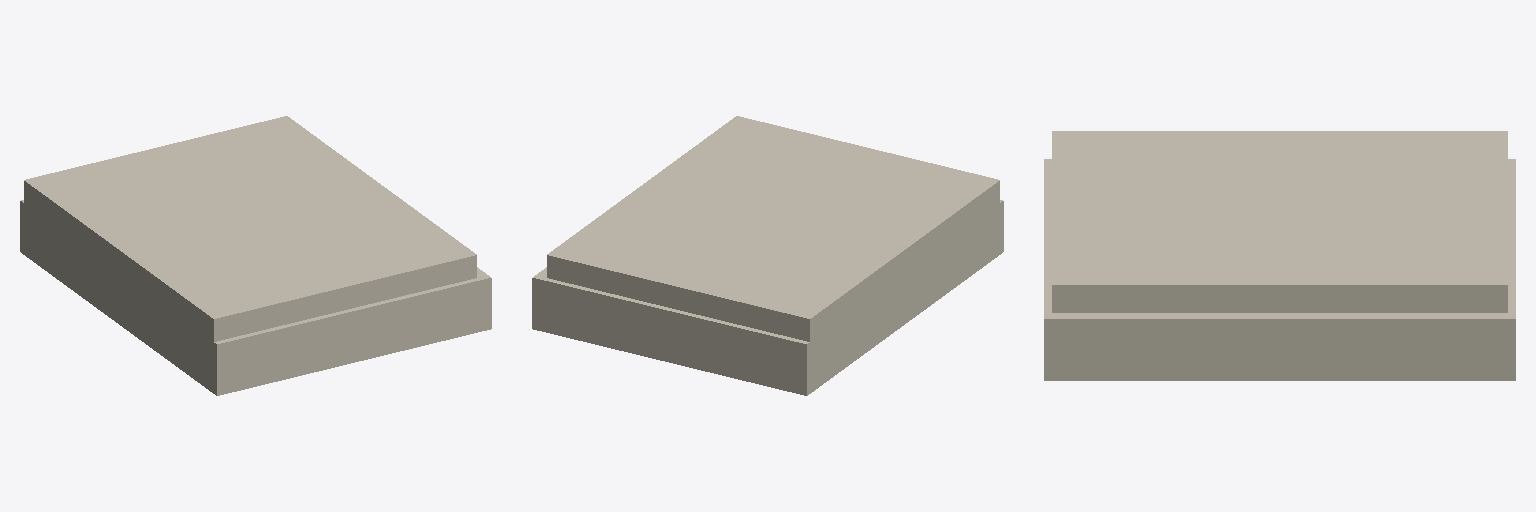
robot.urdf — laptop:
<?xml version="1.0"?>
<robot name="laptop">
  <link name="base_link">
    <visual>
      <origin xyz="0 0 0" rpy="0 0 0"/>
      <geometry>
        <box size="0.25 0.31 0.045"/>
      </geometry>
      <material name="beige">
        <color rgba="0.82 0.80 0.74 1.0"/>
      </material>
    </visual>
    <collision>
      <origin xyz="0 0 0" rpy="0 0 0"/>
      <geometry>
        <box size="0.25 0.31 0.045"/>
      </geometry>
    </collision>
    <inertial>
      <origin xyz="0 0 0" rpy="0 0 0"/>
      <mass value="1.5"/>
      <inertia ixx="0.01227" ixy="0.0" ixz="0.0" iyy="0.00807" iyz="0.0" izz="0.01983"/>
    </inertial>
  </link>

  <link name="lid_link">
    <visual>
      <origin xyz="0.12 0 0.01" rpy="0 0 0"/>
      <geometry>
        <box size="0.24 0.30 0.02"/>
      </geometry>
      <material name="beige_dark">
        <color rgba="0.82 0.80 0.74 1.0"/>
      </material>
    </visual>
    <collision>
      <origin xyz="0.12 0 0.01" rpy="0 0 0"/>
      <geometry>
        <box size="0.24 0.30 0.02"/>
      </geometry>
    </collision>
    <inertial>
      <origin xyz="0.12 0 0.01" rpy="0 0 0"/>
      <mass value="0.6"/>
      <inertia ixx="0.00452" ixy="0.0" ixz="0.0" iyy="0.0029" iyz="0.0" izz="0.00738"/>
    </inertial>
  </link>

  <joint name="lid_hinge" type="revolute">
    <parent link="base_link"/>
    <child link="lid_link"/>
    <origin xyz="-0.125 0 0.0225" rpy="0 0 0"/>
    <axis xyz="0 1 0"/>
    <limit lower="-1.92" upper="0.0" effort="5.0" velocity="3.0"/>
    <dynamics damping="0.1" friction="0.1"/>
  </joint>
</robot>

--- Render facts (derived) ---
Views: 3 orthographic renders of the robot side by side, from view 1: azimuth 30°, elevation 25°; view 2: azimuth 150°, elevation 25°; view 3: azimuth 270°, elevation 25°.
Robot: laptop — 2 links, 1 joints (1 revolute); root link base_link; default pose: all joints at 0.
Links seen in each view (by area): view 1: lid_link, base_link; view 2: lid_link, base_link; view 3: lid_link, base_link.
Link boxes in pixels (<box>): lid_link: <box>24,116,476,341</box>; base_link: <box>20,200,491,395</box>; lid_link: <box>547,116,999,341</box>; base_link: <box>532,200,1003,395</box>; lid_link: <box>1052,131,1507,312</box>; base_link: <box>1044,159,1515,380</box>.
Size in the robot's own frame: 0.25 by 0.31 by 0.065 metres.
Geometry: primitives only (box / cylinder / sphere), no mesh files.
